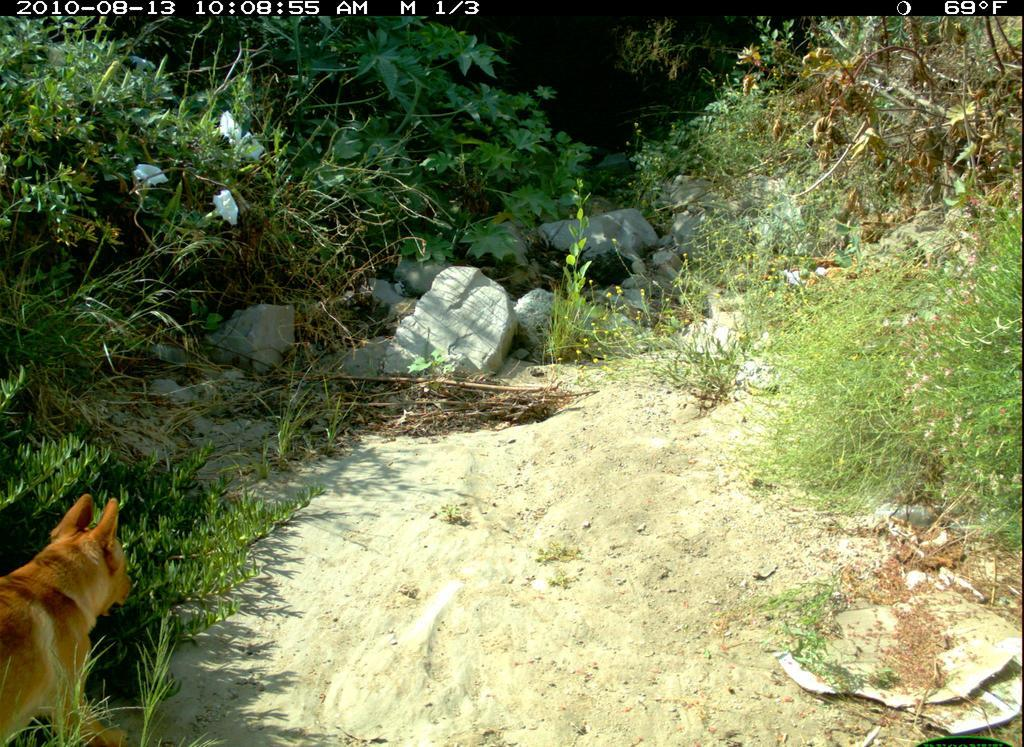dog: (2, 488, 143, 744)
